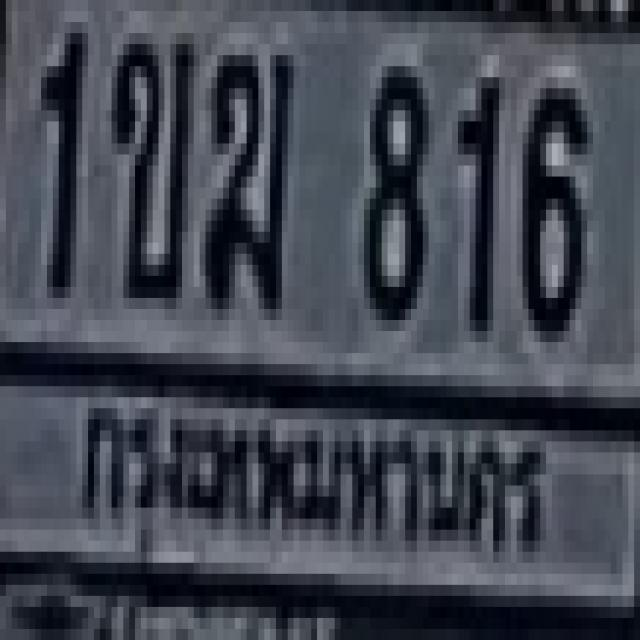1: (38, 22, 79, 287), (455, 66, 496, 320)
6: (517, 77, 581, 331)
8: (358, 55, 423, 309)
A02: (108, 28, 190, 292)
A06: (200, 44, 288, 298)
BKK: (70, 384, 552, 573)
